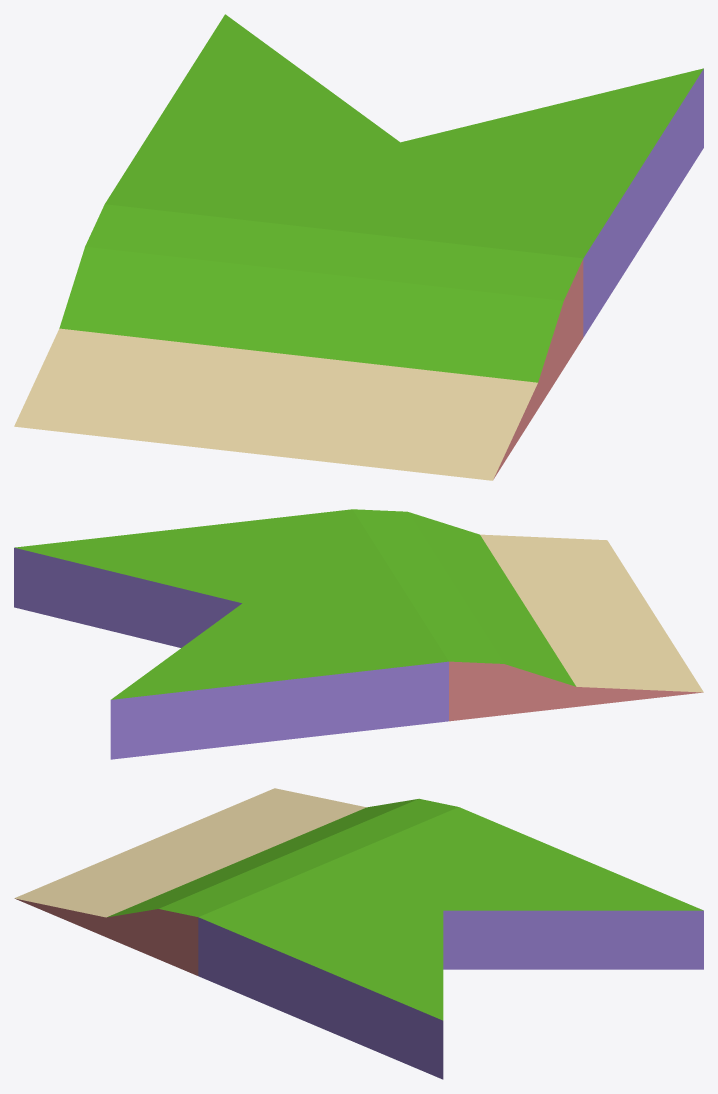
Rendered from Path_Terrain_45_Degrees_Straight_2x2.glb.
The picture shows the model from 3 angles, top to bottom: view 1: azimuth 30°, elevation 25°; view 2: azimuth 150°, elevation 25°; view 3: azimuth 270°, elevation 25°; orthographic projection. The views are drawn at different scales.
Visible parts, largest first — view 1: Path_Terrain_45_Degrees_Straight_2x2; view 2: Path_Terrain_45_Degrees_Straight_2x2; view 3: Path_Terrain_45_Degrees_Straight_2x2.
Part boxes in pixels (x1,y1,x2,y2): Path_Terrain_45_Degrees_Straight_2x2: [14, 14, 703, 480]; Path_Terrain_45_Degrees_Straight_2x2: [14, 509, 703, 759]; Path_Terrain_45_Degrees_Straight_2x2: [14, 788, 703, 1079].
Bounding box in the file's own units: 265 × 25 × 265.
